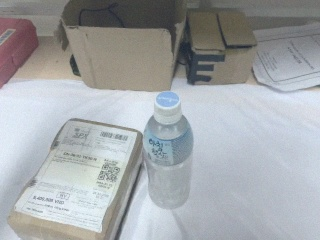bottle: (140, 91, 196, 209)
box: (9, 118, 144, 238), (60, 1, 189, 94), (182, 7, 259, 85)
